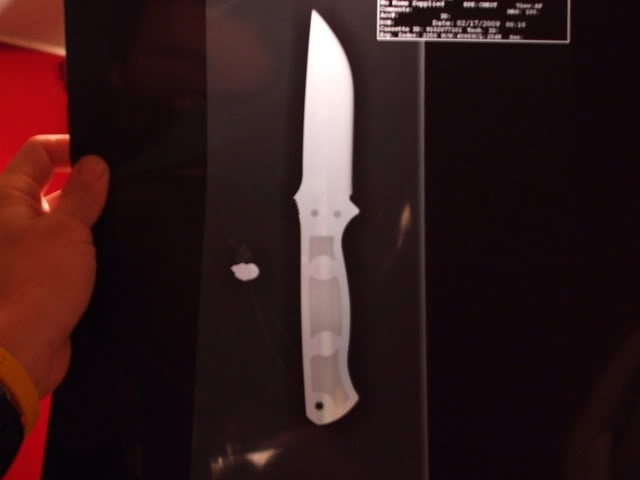knife: (284, 6, 366, 429)
